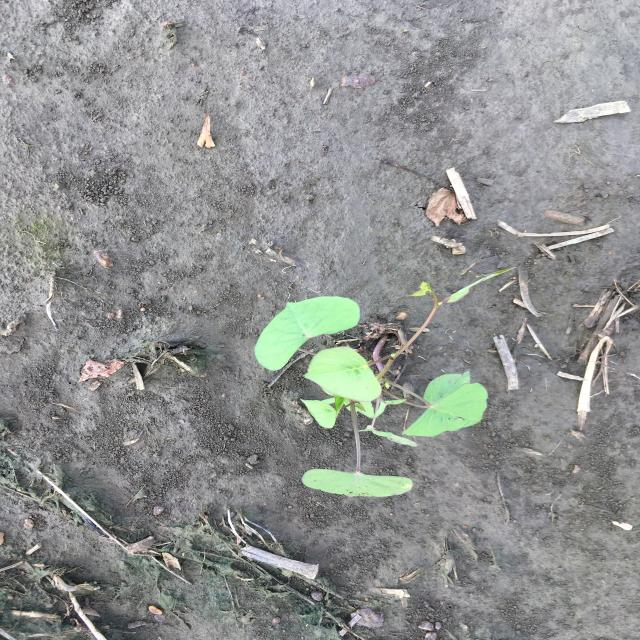MorningGlory: (253, 263, 519, 498)
